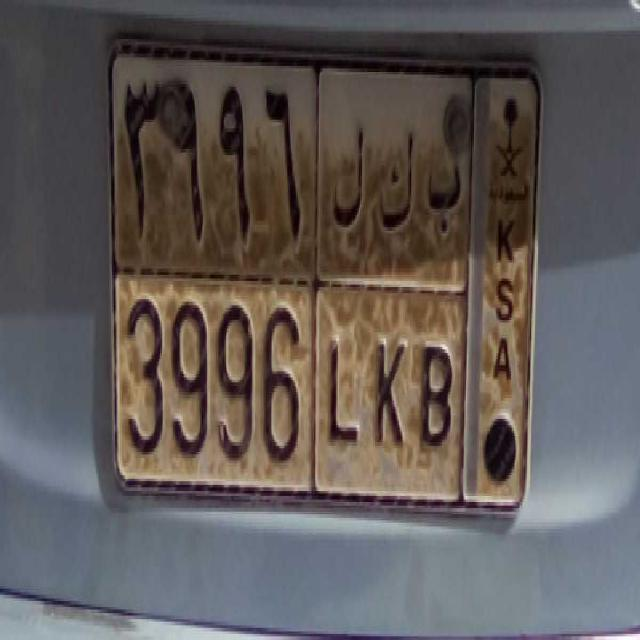license_plate: (119, 269, 462, 509)
